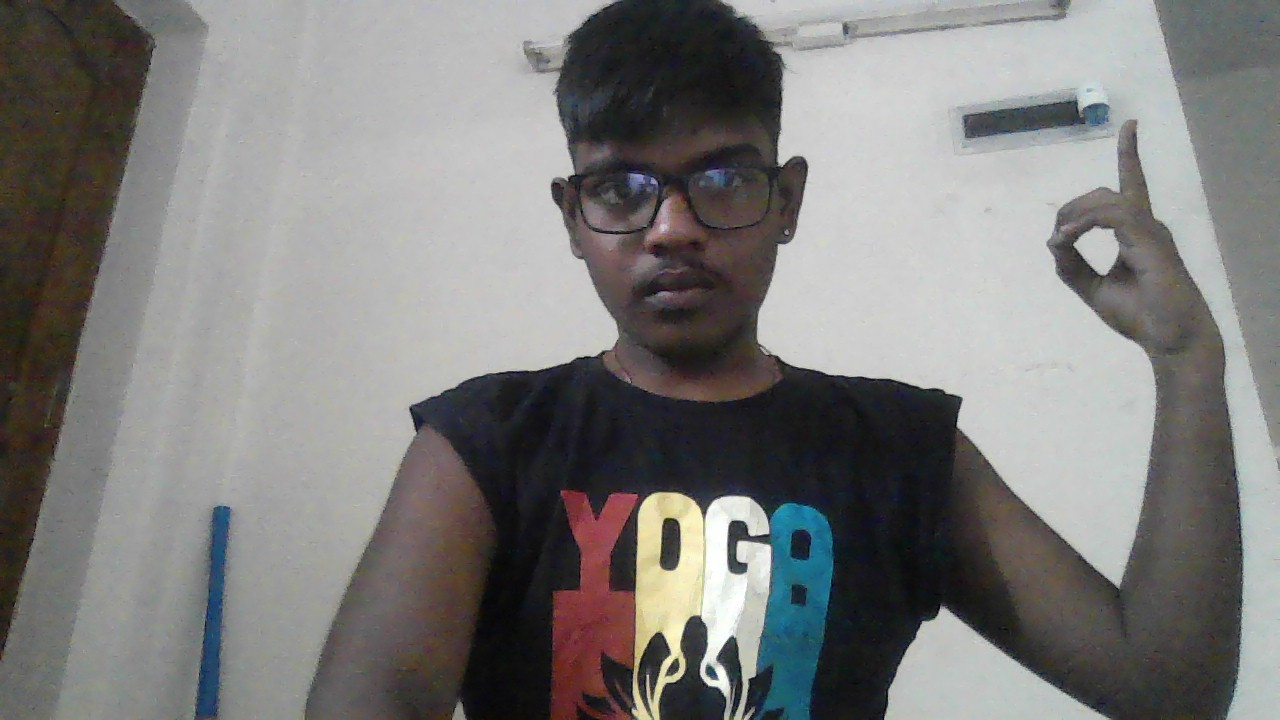D: (1047, 119, 1204, 343)
